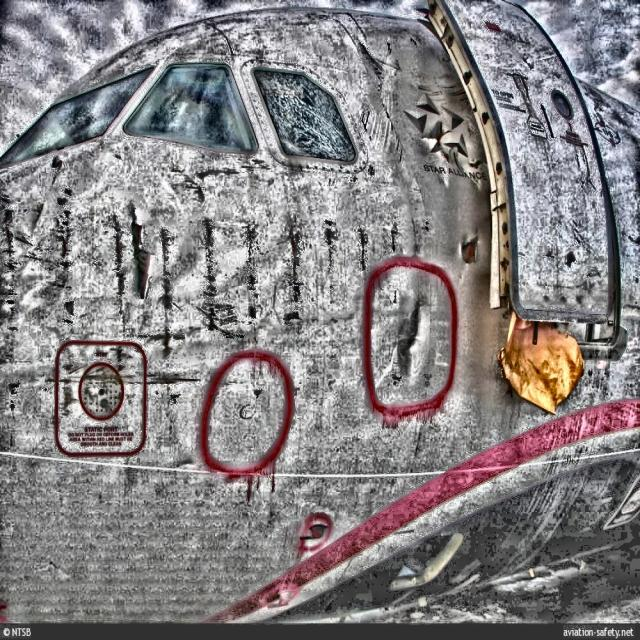crack: (126, 203, 156, 301), (458, 228, 484, 268)
dent: (391, 290, 433, 388)
